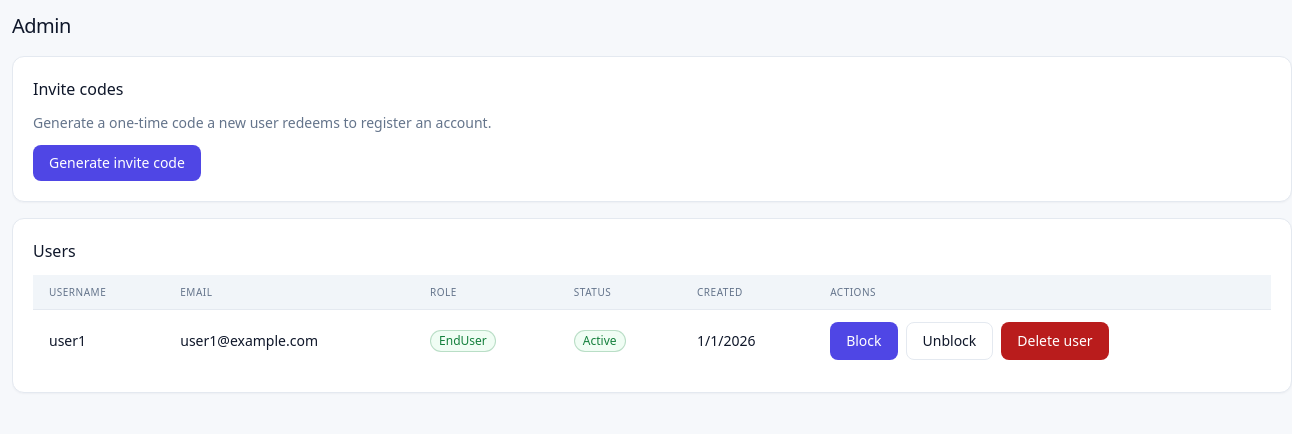
Scenario: AdminPage › surfaces a 403 rather than assuming the client role check was sufficient
This screenshot has width=1292, height=434.
Click the button "Block".
click(864, 341)  # box [830,322,898,360]
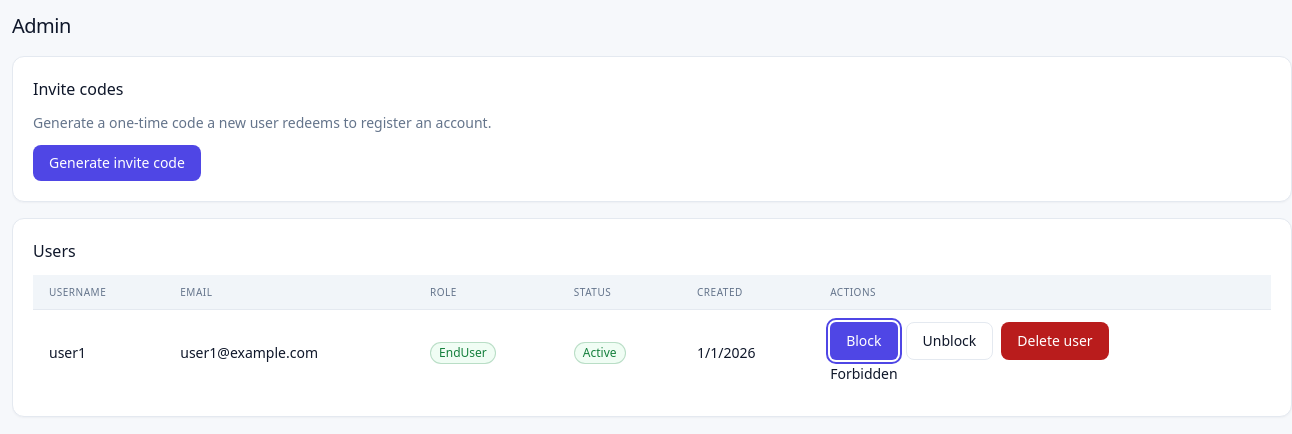
Check: the message reads "Forbidden", box [830,364,898,383]
